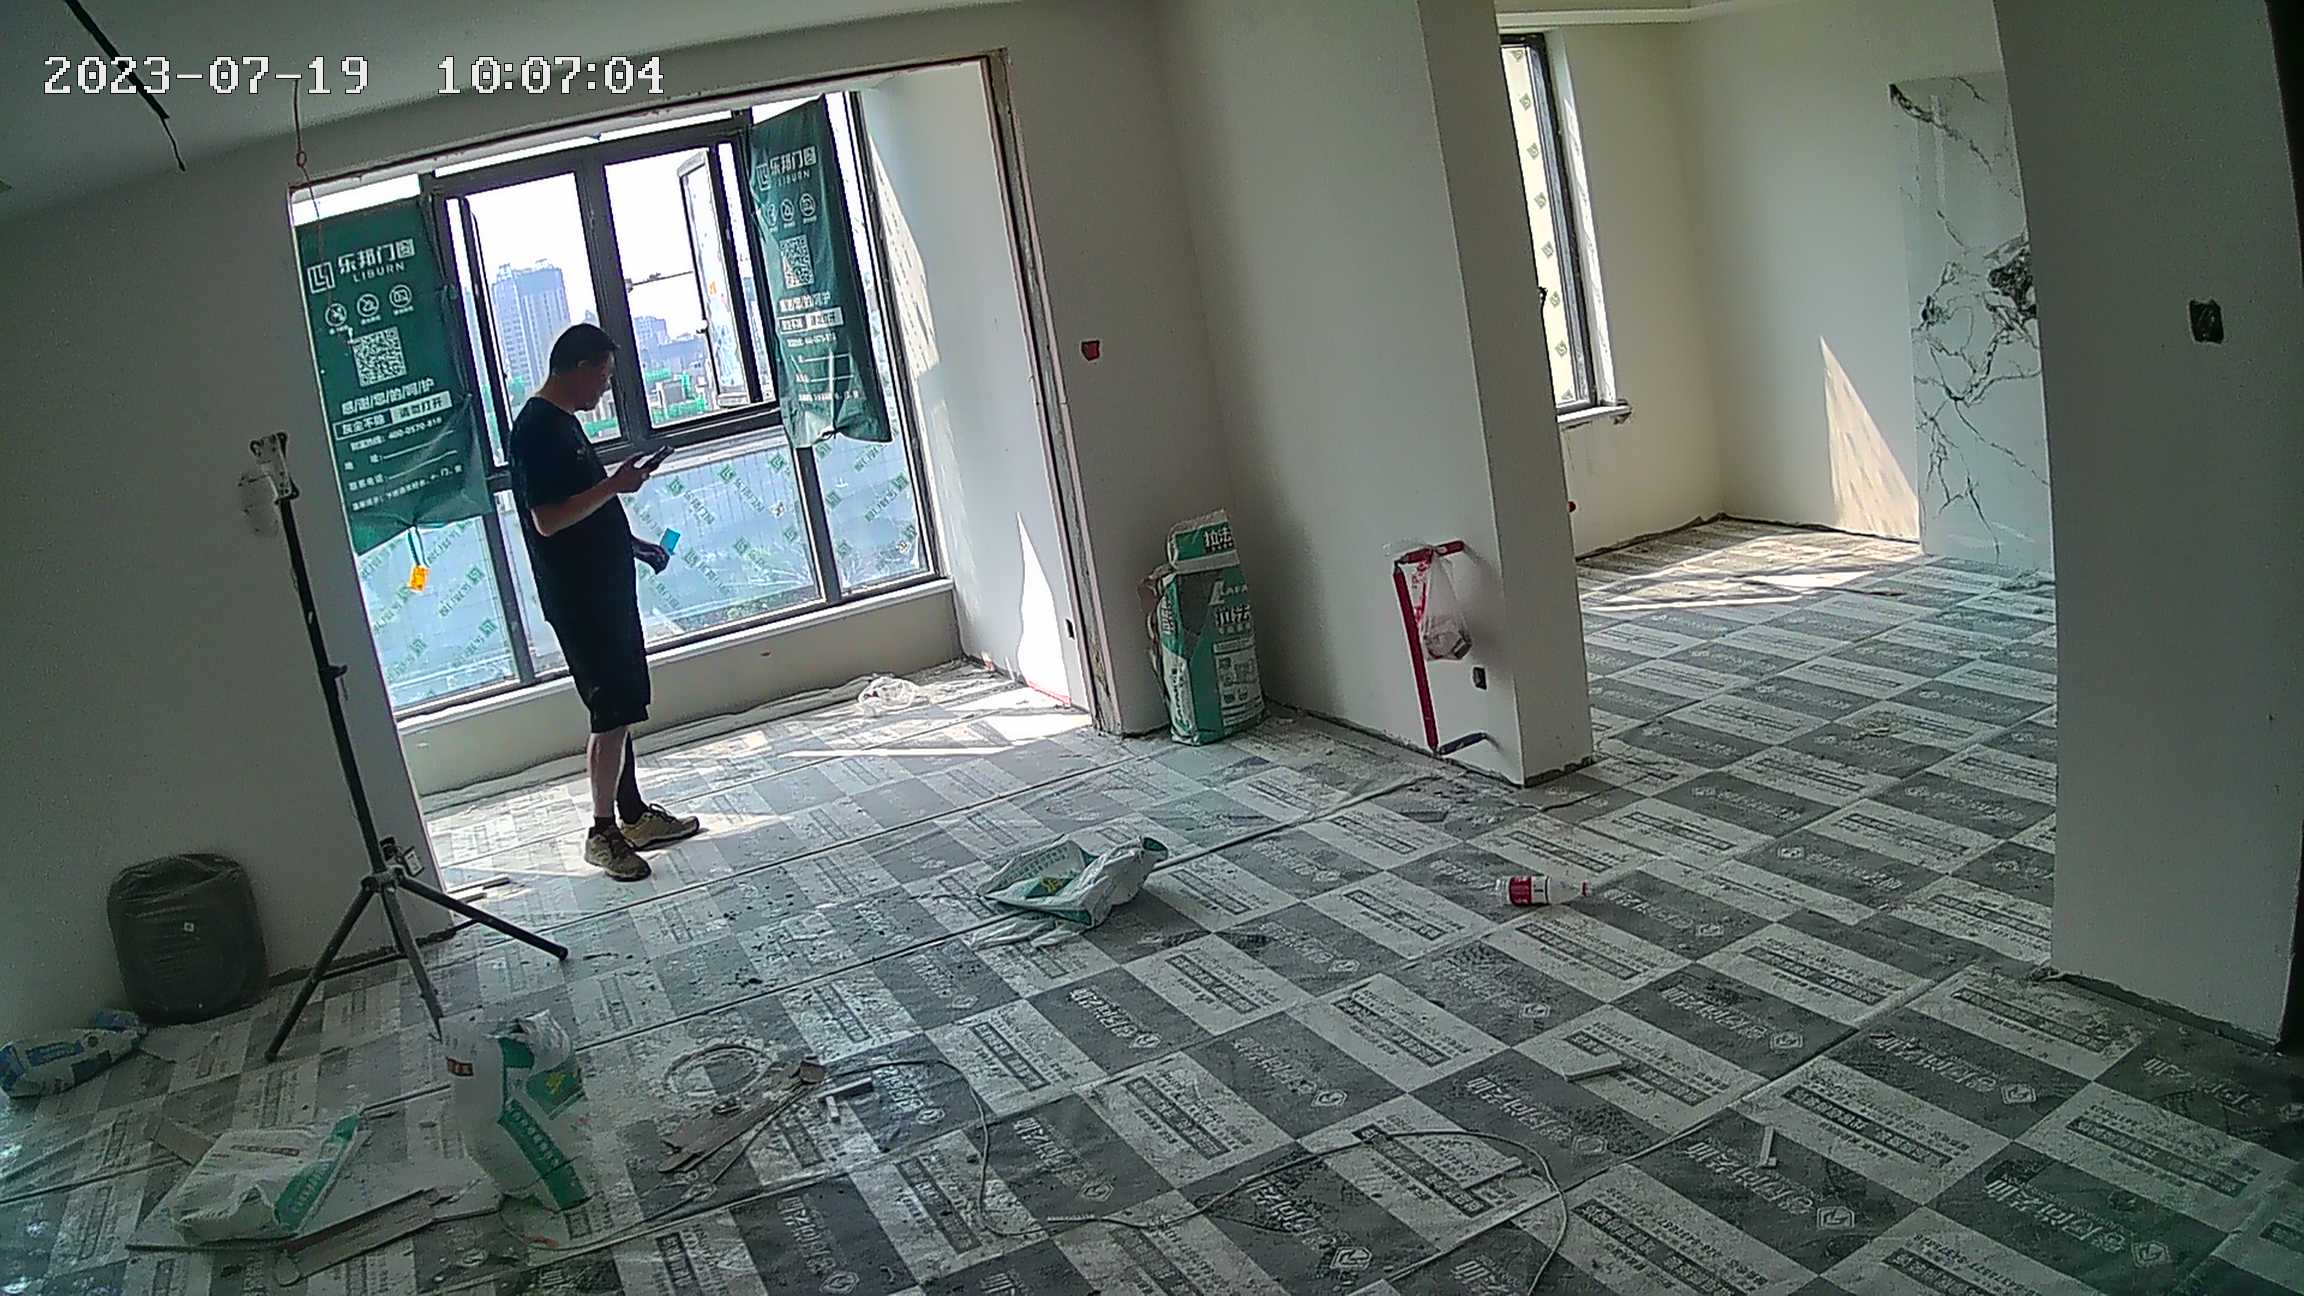people: (509, 317, 709, 883)
window: (292, 137, 962, 690)
